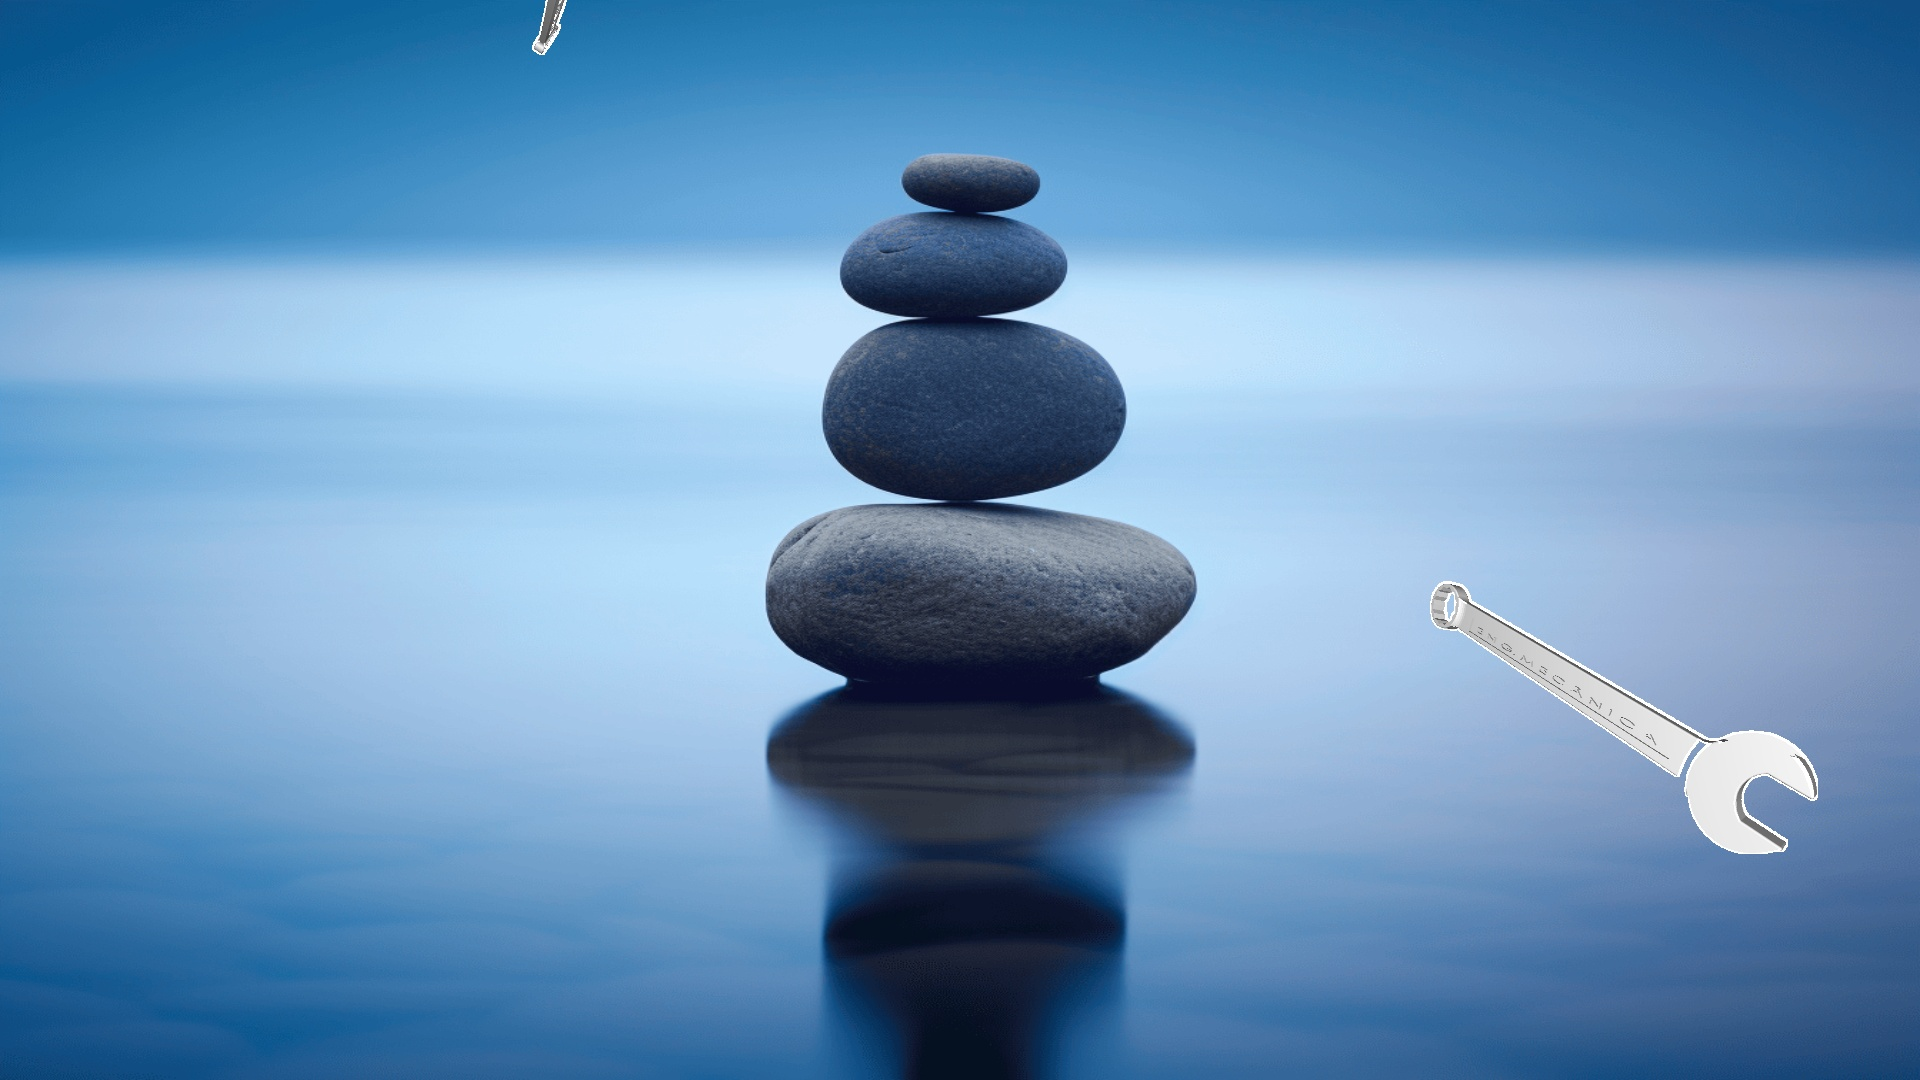Mixed Key: (1429, 582, 1817, 853), (531, 0, 566, 54)
